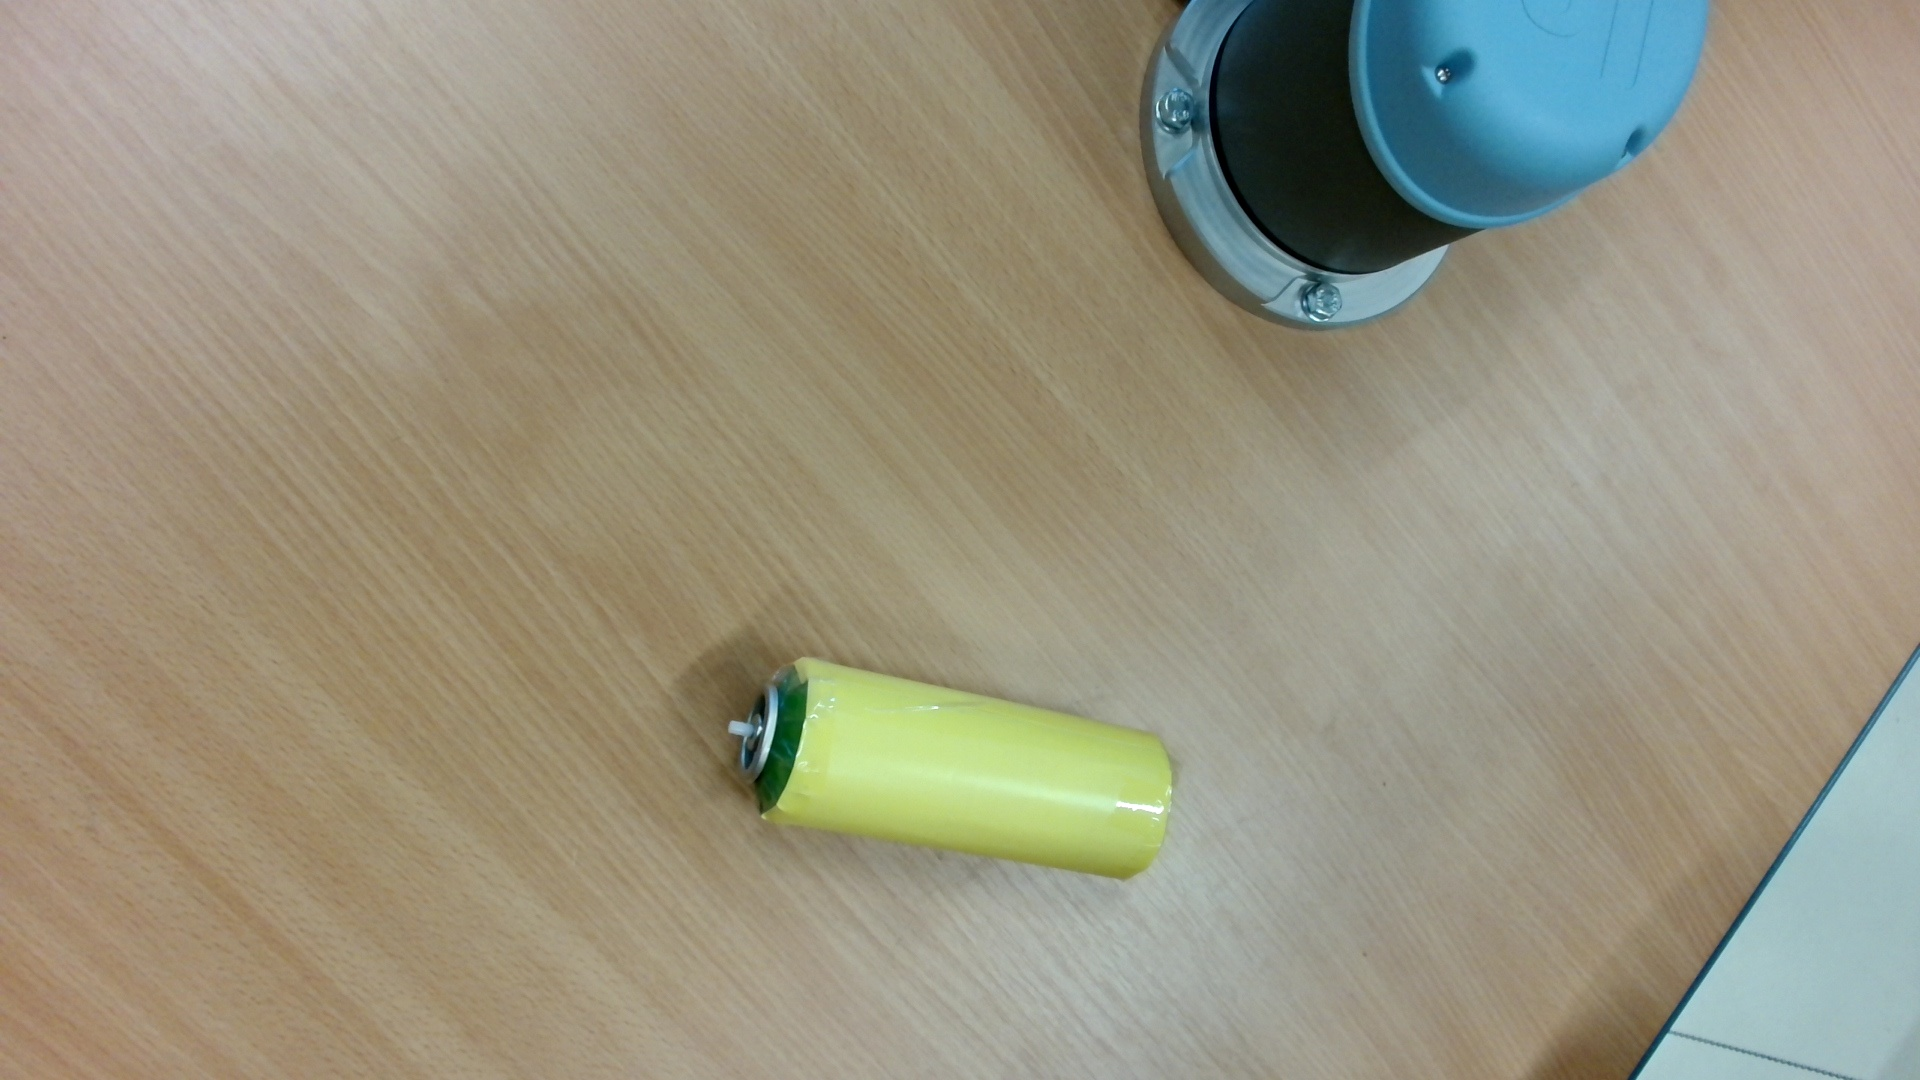Cylinder: (719, 644, 1184, 903)
